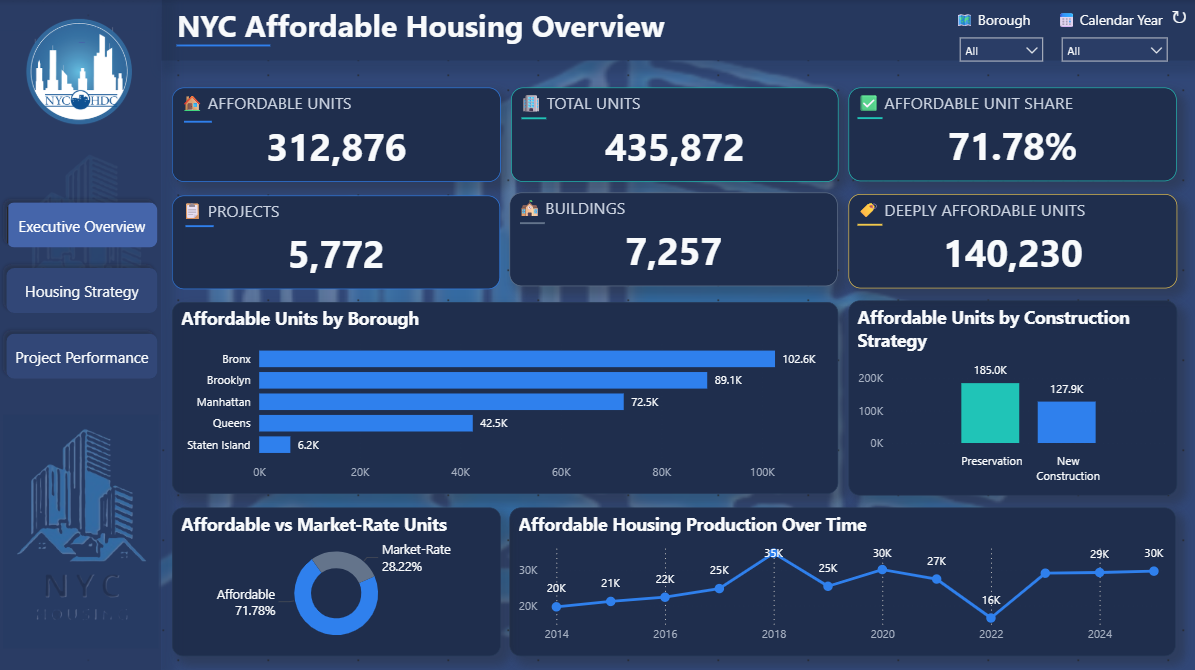

Layout of this report page (visuals, bound fields, positions):
{"tool":"powerbi","page":{"name":"Executive Overview","canvas":[1280,720],"ordinal":0},"visuals":[{"type":"image","box":[0,33.6,185.6,416],"z":0},{"type":"shape","box":[174.4,0,1105.6,65.6],"z":1000},{"type":"textbox","box":[185.6,0,569.4,55.7],"z":1000,"group":"g7"},{"type":"card","title":"🏠 AFFORDABLE UNITS","fields":{"Values":["affordable_housing housing_projects.Affordable Units"]},"box":[185.6,94.4,350.4,100.8],"z":1000,"group":"g1"},{"type":"card","title":"✅ AFFORDABLE UNIT SHARE","fields":{"Values":["affordable_housing housing_projects.Affordable Unit Share_2"]},"box":[907.2,94.4,350,99.8],"z":2000,"group":"g5"},{"type":"clusteredBarChart","title":"Affordable Units by Borough","fields":{"Category":["affordable_housing housing_projects.borough"],"Y":["Sum(affordable_housing housing_projects.all_counted_units)"]},"box":[185.6,323.5,710.4,204.8],"z":2000},{"type":"card","title":"🏫 BUILDINGS","fields":{"Values":["affordable_housing housing_projects.Buildings"]},"box":[545,206.7,350,100],"z":3000,"group":"g4"},{"type":"clusteredColumnChart","title":"Affordable Units by Construction Strategy","fields":{"Y":["Sum(affordable_housing housing_projects.all_counted_units)"],"Category":["affordable_housing housing_projects.reporting_construction_type"]},"box":[907.2,321.3,350.4,208],"z":3000},{"type":"card","title":"🏷️ DEEPLY AFFORDABLE UNITS","fields":{"Values":["affordable_housing housing_projects.Deeply Affordable Units"]},"box":[907.2,207.5,350.7,100.6],"z":4000,"group":"g6"},{"type":"lineChart","title":"Affordable Housing Production Over Time","fields":{"Y":["Sum(affordable_housing housing_projects.all_counted_units)"],"Category":["Date.Year"]},"box":[545.6,542.4,710.4,158.4],"z":4000},{"type":"card","title":"📋 PROJECTS","fields":{"Values":["affordable_housing housing_projects.Projects"]},"box":[185.6,209.1,350,100],"z":5000,"group":"g2"},{"type":"donutChart","title":"Affordable vs Market-Rate Units","fields":{"Category":["Unit Composition.Unit Type"],"Y":["Unit Composition.Unit Composition Value"]},"box":[185.6,542.4,350.4,158.4],"z":5000},{"type":"group","id":"g1","title":"Group 1","box":[185.6,94.4,350.4,100.8],"z":6000},{"type":"card","title":"🏢 TOTAL UNITS","fields":{"Values":["affordable_housing housing_projects.Total Units"]},"box":[546.5,94.4,349.2,100.8],"z":6000,"group":"g3"},{"type":"shape","box":[190.2,42.4,100.2,12.7],"z":7000,"group":"g7"},{"type":"group","id":"g2","title":"Group 2","box":[185.6,209.1,350.4,100.8],"z":7000},{"type":"group","id":"g3","title":"Group 3","box":[546.5,94.4,350.4,100],"z":8000},{"type":"group","id":"g4","title":"Group 4","box":[545,206.7,351.7,101.7],"z":9000},{"type":"group","id":"g5","title":"Group 5","box":[907.2,94.4,350.4,100],"z":10000},{"type":"group","id":"g6","title":"Group 6","box":[907.2,207.5,350.4,100.8],"z":11000},{"type":"group","id":"g7","title":"Group 7","box":[185.6,0,569.6,57.6],"z":12000},{"type":"shape","box":[0,0,174.4,720],"z":13000},{"type":"group","id":"g8","title":"Group 8","box":[4.8,3.2,171.2,151.8],"z":14000},{"type":"shape","box":[199,116,29.7,31.4],"z":14000,"group":"g1"},{"type":"pageNavigator","box":[0,208,179.2,208],"z":15000},{"type":"shape","box":[199.9,225,30.2,33.4],"z":15000,"group":"g2"},{"type":"shape","box":[557.6,110.4,26.4,33.7],"z":16000,"group":"g3"},{"type":"image","box":[0,416,176,304],"z":16000},{"type":"slicer","title":"📅 Calendar Year","fields":{"Values":["Date.Year"]},"box":[1124.8,11.2,132.8,60.8],"z":17000},{"type":"shape","box":[917.1,110.3,26.9,33.3],"z":17000,"group":"g5"},{"type":"image","box":[4.8,3.2,171.2,151.8],"z":17750,"group":"g8"},{"type":"actionButton","box":[1240,0,40,33.6],"z":18000},{"type":"shape","box":[556.1,222.6,26.4,33.4],"z":18000,"group":"g4"},{"type":"slicer","title":"🗺️ Borough","fields":{"Values":["affordable_housing housing_projects.borough"]},"box":[1016,11.2,108.8,60.8],"z":19000},{"type":"image","box":[42.1,89.1,94.1,36.5],"z":19000,"group":"g8"},{"type":"shape","box":[917,223.5,26.5,33.6],"z":19000,"group":"g6"}]}

Visuals, with their boxes in screenshot pixels (x1, y1, x2, y2), scaled from the page's 1280x720 canvas onto the 1195x670 screenshot:
image: 0/31/173/418
shape: 163/0/1194/61
textbox: 173/0/705/52
"🏠 AFFORDABLE UNITS" card: 173/88/500/182
"✅ AFFORDABLE UNIT SHARE" card: 847/88/1174/181
"Affordable Units by Borough" clusteredBarChart: 173/301/836/492
"🏫 BUILDINGS" card: 509/192/836/285
"Affordable Units by Construction Strategy" clusteredColumnChart: 847/299/1174/493
"🏷️ DEEPLY AFFORDABLE UNITS" card: 847/193/1174/287
"Affordable Housing Production Over Time" lineChart: 509/505/1173/652
"📋 PROJECTS" card: 173/195/500/288
"Affordable vs Market-Rate Units" donutChart: 173/505/500/652
"Group 1" group: 173/88/500/182
"🏢 TOTAL UNITS" card: 510/88/836/182
shape: 178/39/271/51
"Group 2" group: 173/195/500/288
"Group 3" group: 510/88/837/181
"Group 4" group: 509/192/837/287
"Group 5" group: 847/88/1174/181
"Group 6" group: 847/193/1174/287
"Group 7" group: 173/0/705/54
shape: 0/0/163/669
"Group 8" group: 4/3/164/144
shape: 186/108/214/137
pageNavigator: 0/194/167/387
shape: 187/209/215/240
shape: 521/103/545/134
image: 0/387/164/669
"📅 Calendar Year" slicer: 1050/10/1174/67
shape: 856/103/881/134
image: 4/3/164/144
actionButton: 1158/0/1194/31
shape: 519/207/544/238
"🗺️ Borough" slicer: 949/10/1050/67
image: 39/83/127/117
shape: 856/208/881/239
